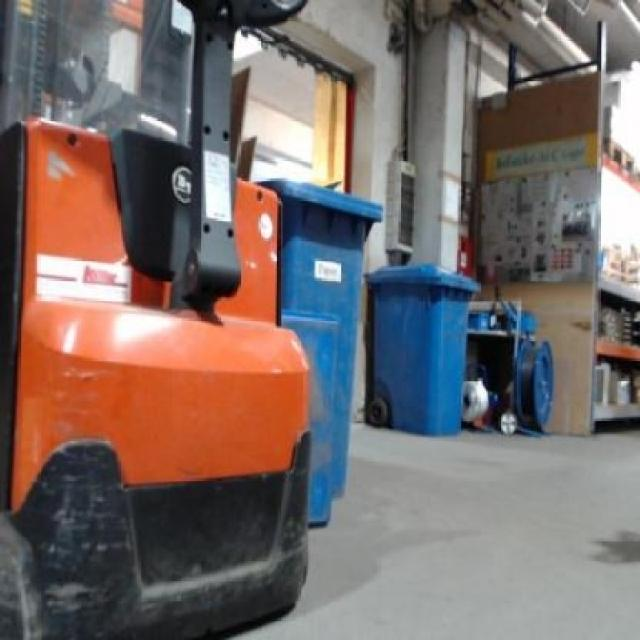pallets: (258, 177, 380, 522), (365, 263, 475, 432)
